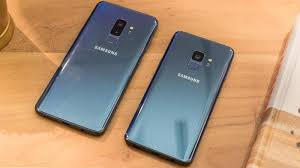samsung: (33, 1, 157, 140), (125, 27, 234, 168)
